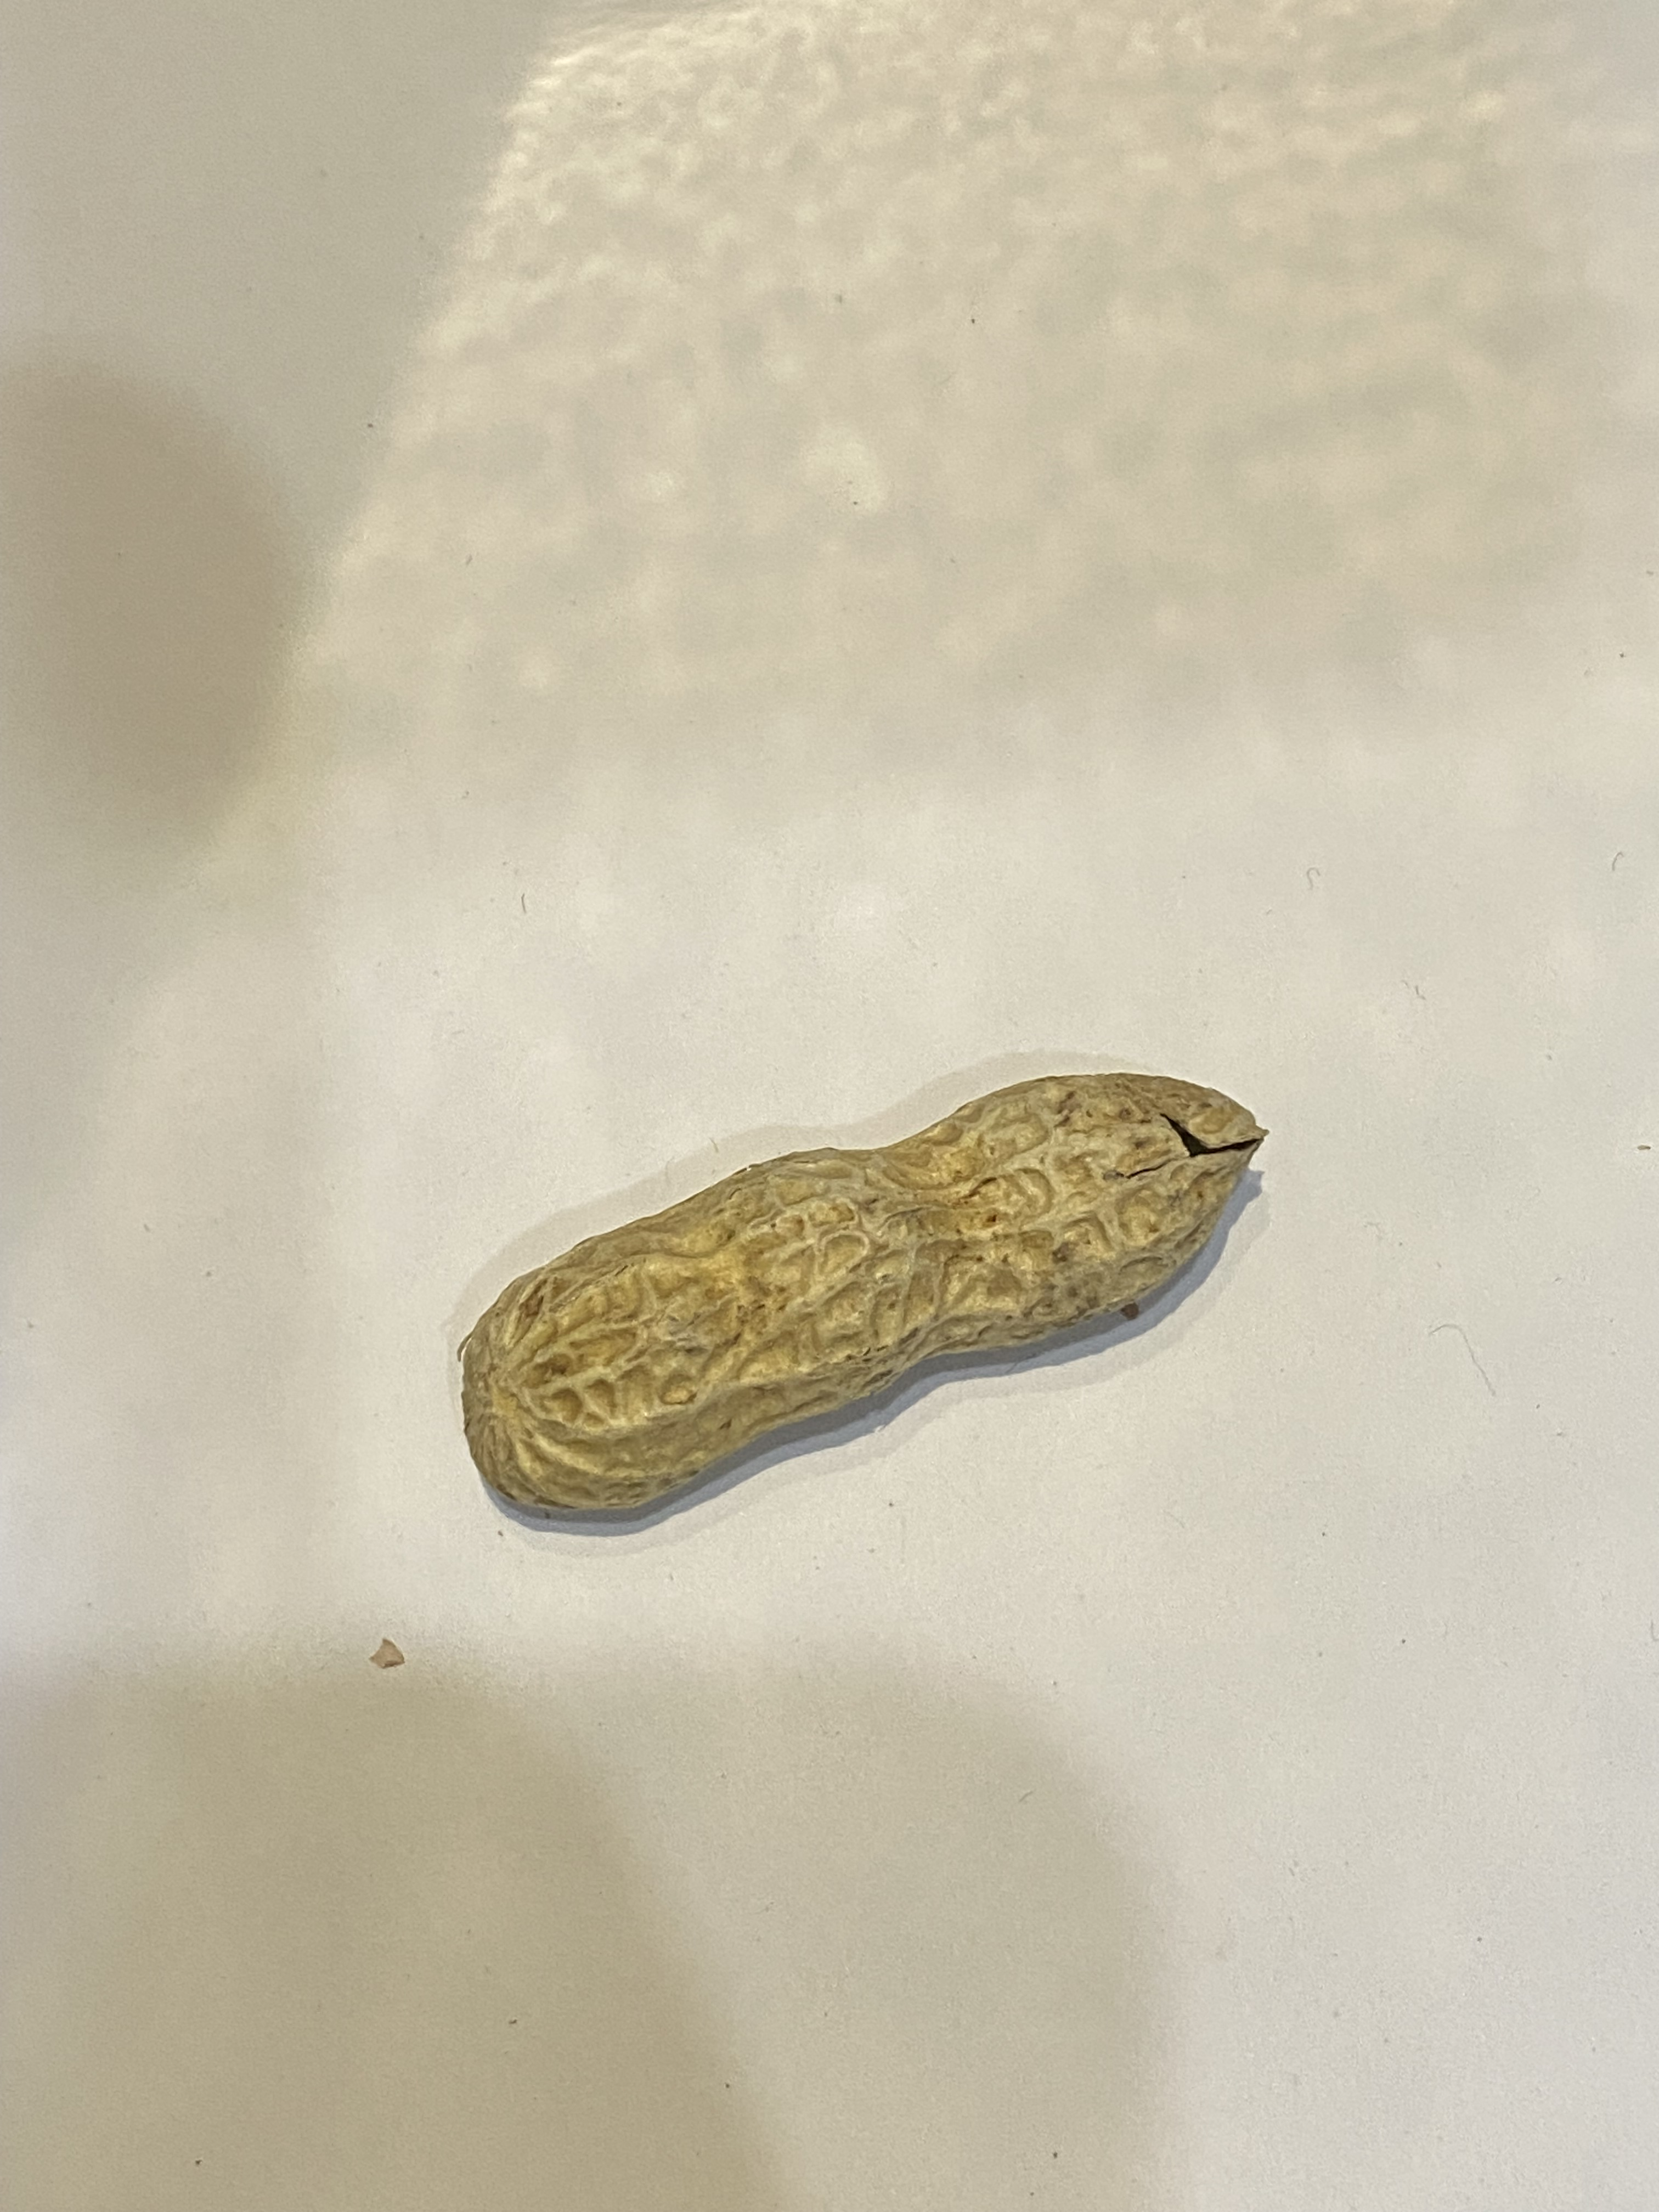kacang3: (420, 1043, 1298, 1531)
